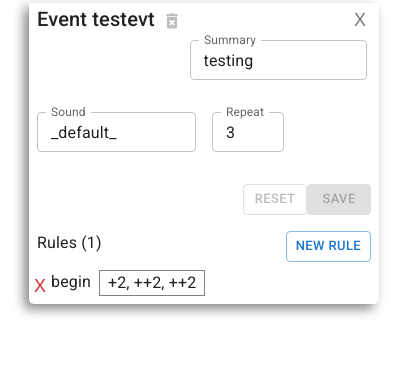
Test: eventsutil - modify › handles error after invalid sound repeat mod
In the field with test id "descrInput": {"x": 278, "y": 60} x1=190 y1=40 x2=367 y2=80, type "new desc"
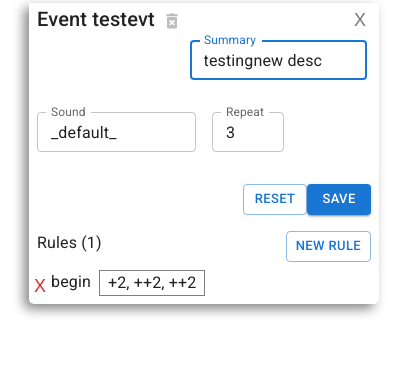
In the field with test id "soundRepeatInput": {"x": 248, "y": 132} x1=212 y1=112 x2=284 y2=152, type "100"
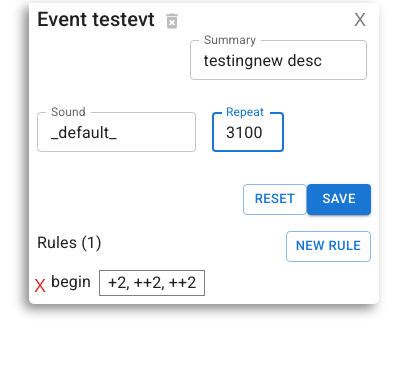
Check: the button "Save" is enabled
Click the button "Save": {"x": 339, "y": 199} x1=307 y1=184 x2=371 y2=215
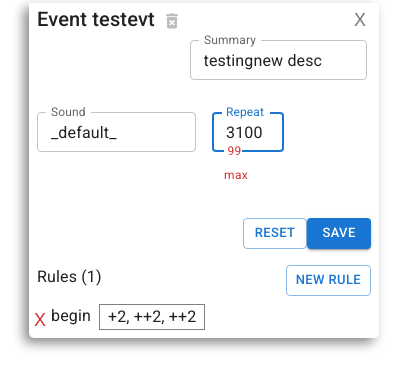
Check: the text "99 max" is shown, box x1=224 y1=144 x2=252 y2=182
